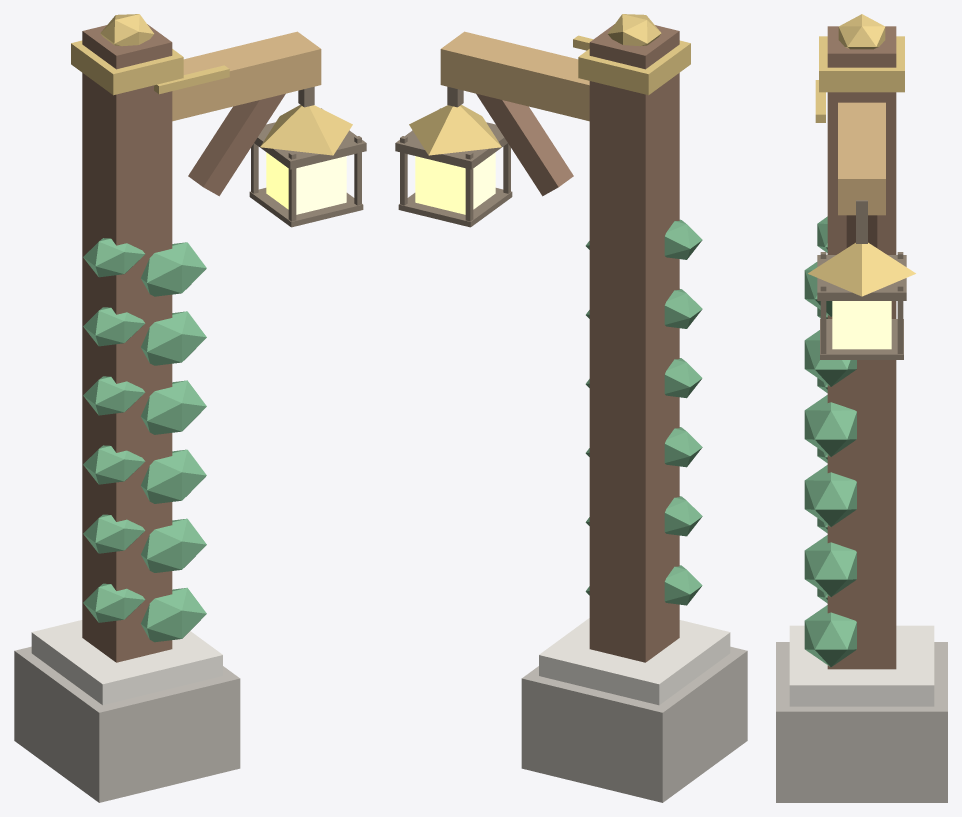
Rendered from lantern-post.glb.
The picture shows the model from 3 angles, left to right: view 1: azimuth 30°, elevation 25°; view 2: azimuth 150°, elevation 25°; view 3: azimuth 270°, elevation 25°; orthographic projection.
Parts seen in each view (by area): view 1: lantern_post_wood_dark, lantern_post_leaf_mid, lantern_post_stone_dark, lantern_post_stone_light, lantern_post_gold, lantern_post_wood_light, lantern_post_metal, lantern_post_glow; view 2: lantern_post_wood_dark, lantern_post_stone_dark, lantern_post_stone_light, lantern_post_wood_light, lantern_post_gold, lantern_post_leaf_mid, lantern_post_metal, lantern_post_glow; view 3: lantern_post_wood_dark, lantern_post_stone_dark, lantern_post_leaf_mid, lantern_post_stone_light, lantern_post_gold, lantern_post_wood_light, lantern_post_metal, lantern_post_glow.
Part boxes in pixels (<box>): lantern_post_wood_dark: <box>82,24,285,662</box>; lantern_post_leaf_mid: <box>83,238,206,642</box>; lantern_post_stone_dark: <box>14,646,240,802</box>; lantern_post_stone_light: <box>31,620,222,705</box>; lantern_post_gold: <box>71,14,352,155</box>; lantern_post_wood_light: <box>172,31,321,121</box>; lantern_post_metal: <box>249,86,366,227</box>; lantern_post_glow: <box>266,152,346,214</box>; lantern_post_wood_dark: <box>476,24,679,662</box>; lantern_post_stone_dark: <box>521,646,747,802</box>; lantern_post_stone_light: <box>539,618,730,705</box>; lantern_post_wood_light: <box>440,31,589,121</box>; lantern_post_gold: <box>409,14,690,155</box>; lantern_post_leaf_mid: <box>585,219,702,605</box>; lantern_post_metal: <box>395,86,512,227</box>; lantern_post_glow: <box>415,152,495,214</box>; lantern_post_wood_dark: <box>827,26,896,669</box>; lantern_post_stone_dark: <box>776,642,947,802</box>; lantern_post_leaf_mid: <box>804,216,856,666</box>; lantern_post_stone_light: <box>789,625,934,706</box>; lantern_post_gold: <box>808,14,915,296</box>; lantern_post_wood_light: <box>838,102,885,215</box>; lantern_post_metal: <box>817,200,906,359</box>; lantern_post_glow: <box>832,301,891,349</box>.
Size of the model in its own units: 1.01 by 2.4 by 0.5.
